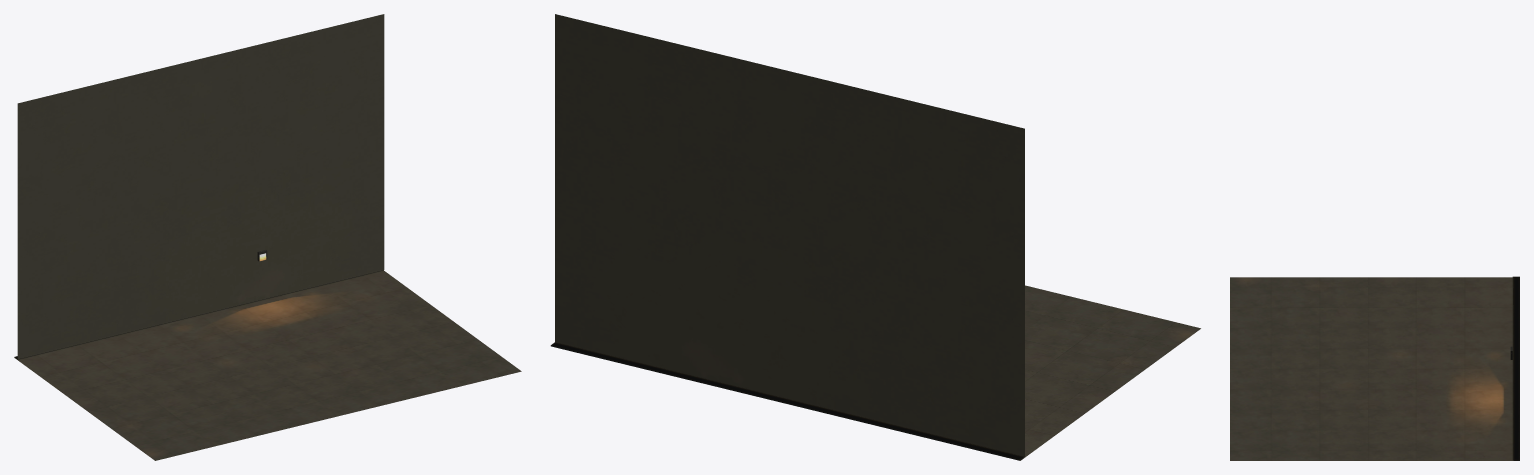
The model's file is Prova_export_6_square_sera.glb.
3 views of the same model, side by side, from view 1: azimuth 30°, elevation 25°; view 2: azimuth 150°, elevation 25°; view 3: azimuth 270°, elevation 25° (orthographic). The views are drawn at different scales.
Visible parts, largest first — view 1: Muro, Pavimento; view 2: Muro, Pavimento; view 3: Pavimento, Muro.
Part boxes in pixels (x1,y1,x2,y2): Muro: (14,14,384,359); Pavimento: (14,270,521,460); Muro: (550,14,1024,459); Pavimento: (551,285,1200,460); Pavimento: (1230,277,1519,460); Muro: (1512,276,1519,460).
Size of the model in its own units: 5.99 by 4.01 by 4.
4 materials, 4 textured.
